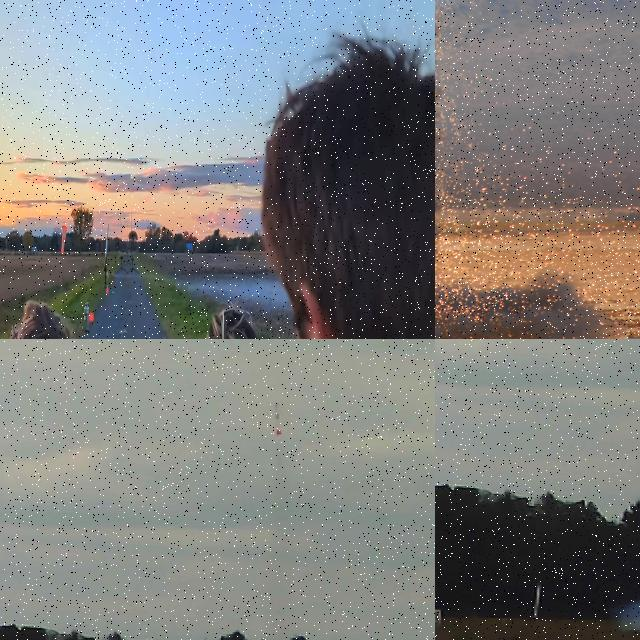Rocket: (531, 582, 542, 619), (272, 402, 282, 436), (104, 239, 108, 272)
